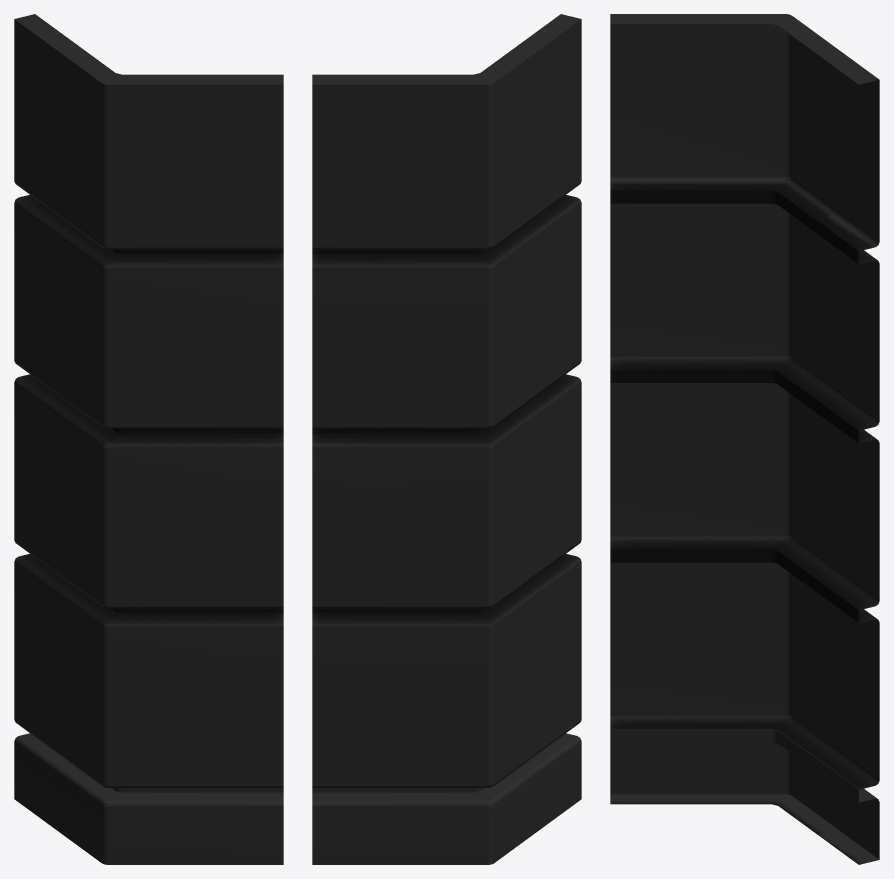
Rendered from OBT_UOT_SW.fbx.
3 views of the same model, side by side, from view 1: azimuth 90°, elevation 25°; view 2: azimuth 150°, elevation 25°; view 3: azimuth 270°, elevation 25° (orthographic).
Parts seen in each view (by area): view 1: OBT_UOT_SW; view 2: OBT_UOT_SW; view 3: OBT_UOT_SW.
Part boxes in pixels (x1,y1,x2,y2): OBT_UOT_SW: [14, 14, 283, 864]; OBT_UOT_SW: [312, 14, 581, 864]; OBT_UOT_SW: [610, 14, 879, 864].
Bounding box in the file's own units: 0.8753 × 4.5 × 1.41.
